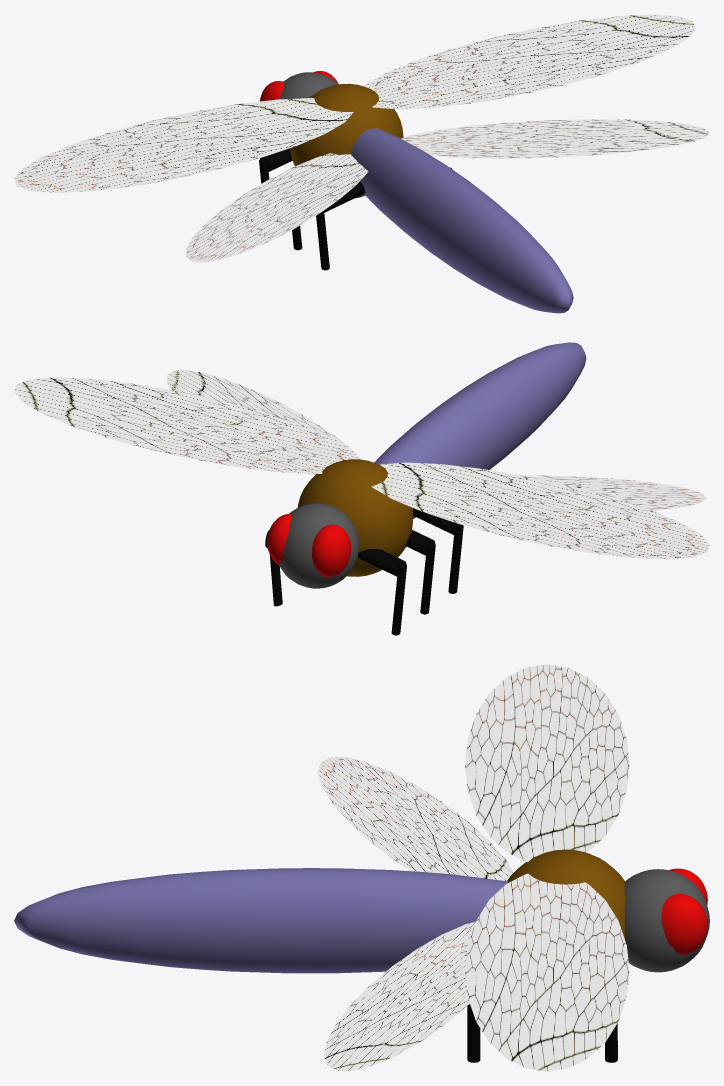
File: dragonfly_prefab.fbx
The picture shows the model from 3 angles, top to bottom: view 1: azimuth 30°, elevation 25°; view 2: azimuth 150°, elevation 25°; view 3: azimuth 270°, elevation 25°; orthographic projection. The views are drawn at different scales.
Parts seen in each view (by area): view 1: pSphere1, pDisc1, pDisc2, pDisc4, pDisc5, pSphere2, pSphere3, pasted__pCylinder6; view 2: pDisc1, pDisc2, pSphere1, pSphere2, pSphere3, pDisc4, pDisc5, pSphere6, pSphere5, pasted__pCylinder1, pasted__pCylinder4, pasted__pCylinder2 (+1 smaller); view 3: pSphere1, pDisc1, pDisc2, pDisc5, pDisc4, pSphere3, pSphere2, pSphere5, pasted__pCylinder12.
Part boxes in pixels (<box>): pSphere1: <box>351,128,573,313</box>; pDisc1: <box>364,14,695,109</box>; pDisc2: <box>14,98,353,192</box>; pDisc4: <box>401,119,709,158</box>; pDisc5: <box>186,153,368,262</box>; pSphere2: <box>290,83,403,198</box>; pSphere3: <box>279,72,338,99</box>; pasted__pCylinder6: <box>316,211,329,270</box>; pDisc1: <box>14,377,359,473</box>; pDisc2: <box>371,462,709,559</box>; pSphere1: <box>374,342,586,518</box>; pSphere2: <box>297,459,413,576</box>; pSphere3: <box>279,503,359,588</box>; pDisc4: <box>166,370,361,475</box>; pDisc5: <box>521,475,706,510</box>; pSphere6: <box>312,524,351,576</box>; pSphere5: <box>267,514,291,564</box>; pasted__pCylinder1: <box>358,549,406,576</box>; pasted__pCylinder4: <box>420,542,435,614</box>; pasted__pCylinder2: <box>391,563,406,635</box>; pSphere1: <box>14,868,507,973</box>; pDisc1: <box>465,873,629,1071</box>; pDisc2: <box>465,664,629,862</box>; pDisc5: <box>317,757,513,881</box>; pDisc4: <box>324,922,475,1070</box>; pSphere3: <box>624,869,709,972</box>; pSphere2: <box>507,849,625,938</box>; pSphere5: <box>661,893,707,954</box>; pasted__pCylinder12: <box>467,1004,480,1062</box>.
Size of the model in its own units: 4.05 by 0.79 by 2.92.
